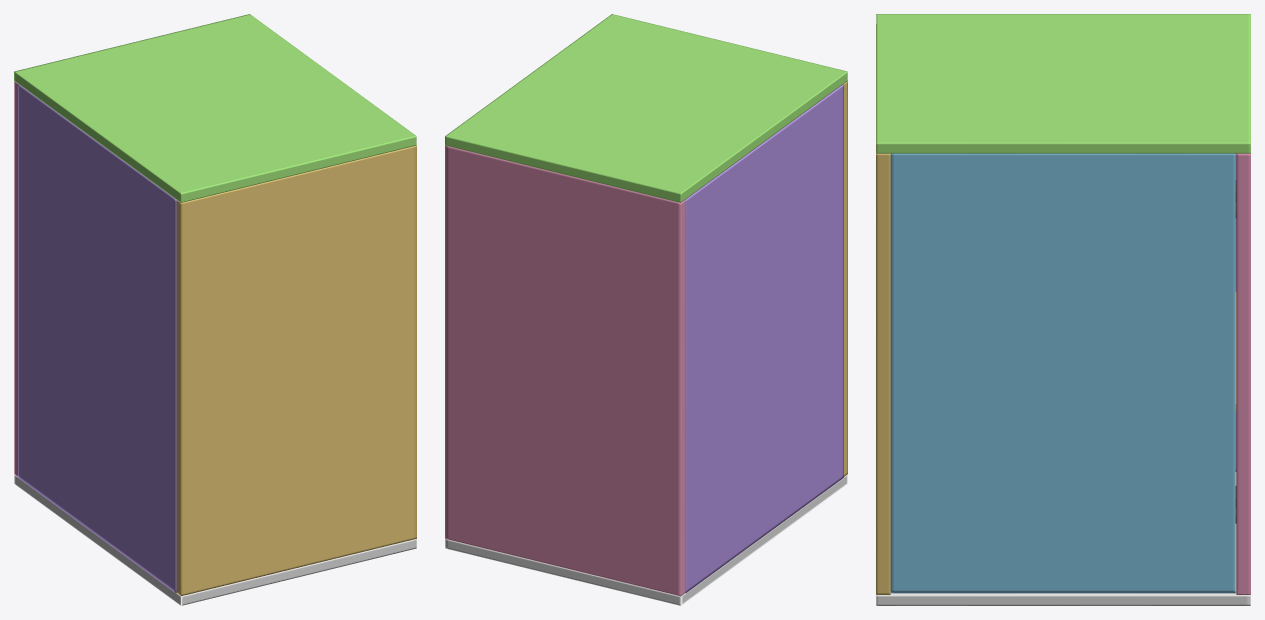
Rendered from StorageCabinet.gltf.
3 renders of one model, left to right at view 1: azimuth 30°, elevation 25°; view 2: azimuth 150°, elevation 25°; view 3: azimuth 270°, elevation 25°, orthographic. The views are drawn at different scales.
Parts seen in each view (by area): view 1: left_plank, back_plank, top_plank, bottom_plank, right_plank; view 2: right_plank, back_plank, top_plank, bottom_plank, left_plank; view 3: door, top_plank, left_plank, right_plank, bottom_plank.
Part boxes in pixels (x1,y1,x2,y2): left_plank: [176, 145, 416, 596]; back_plank: [18, 84, 176, 593]; top_plank: [14, 14, 416, 202]; bottom_plank: [14, 474, 416, 605]; right_plank: [14, 81, 18, 476]; right_plank: [445, 145, 685, 596]; back_plank: [685, 84, 843, 592]; top_plank: [445, 14, 847, 202]; bottom_plank: [445, 474, 847, 605]; left_plank: [844, 81, 847, 476]; door: [890, 153, 1235, 593]; top_plank: [876, 14, 1250, 153]; left_plank: [876, 24, 890, 594]; right_plank: [1236, 153, 1250, 594]; bottom_plank: [876, 472, 1250, 605].
Bounding box in the file's own units: 1.26 × 2.1 × 1.54.
